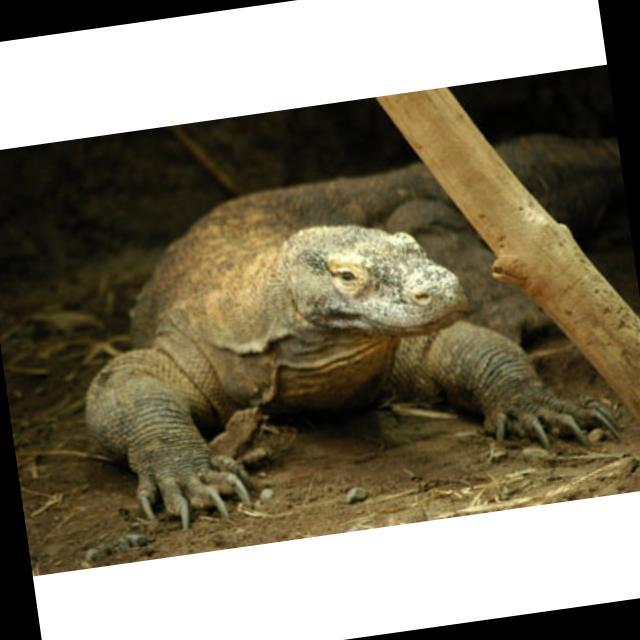KomodoDragon: (54, 122, 640, 539)
